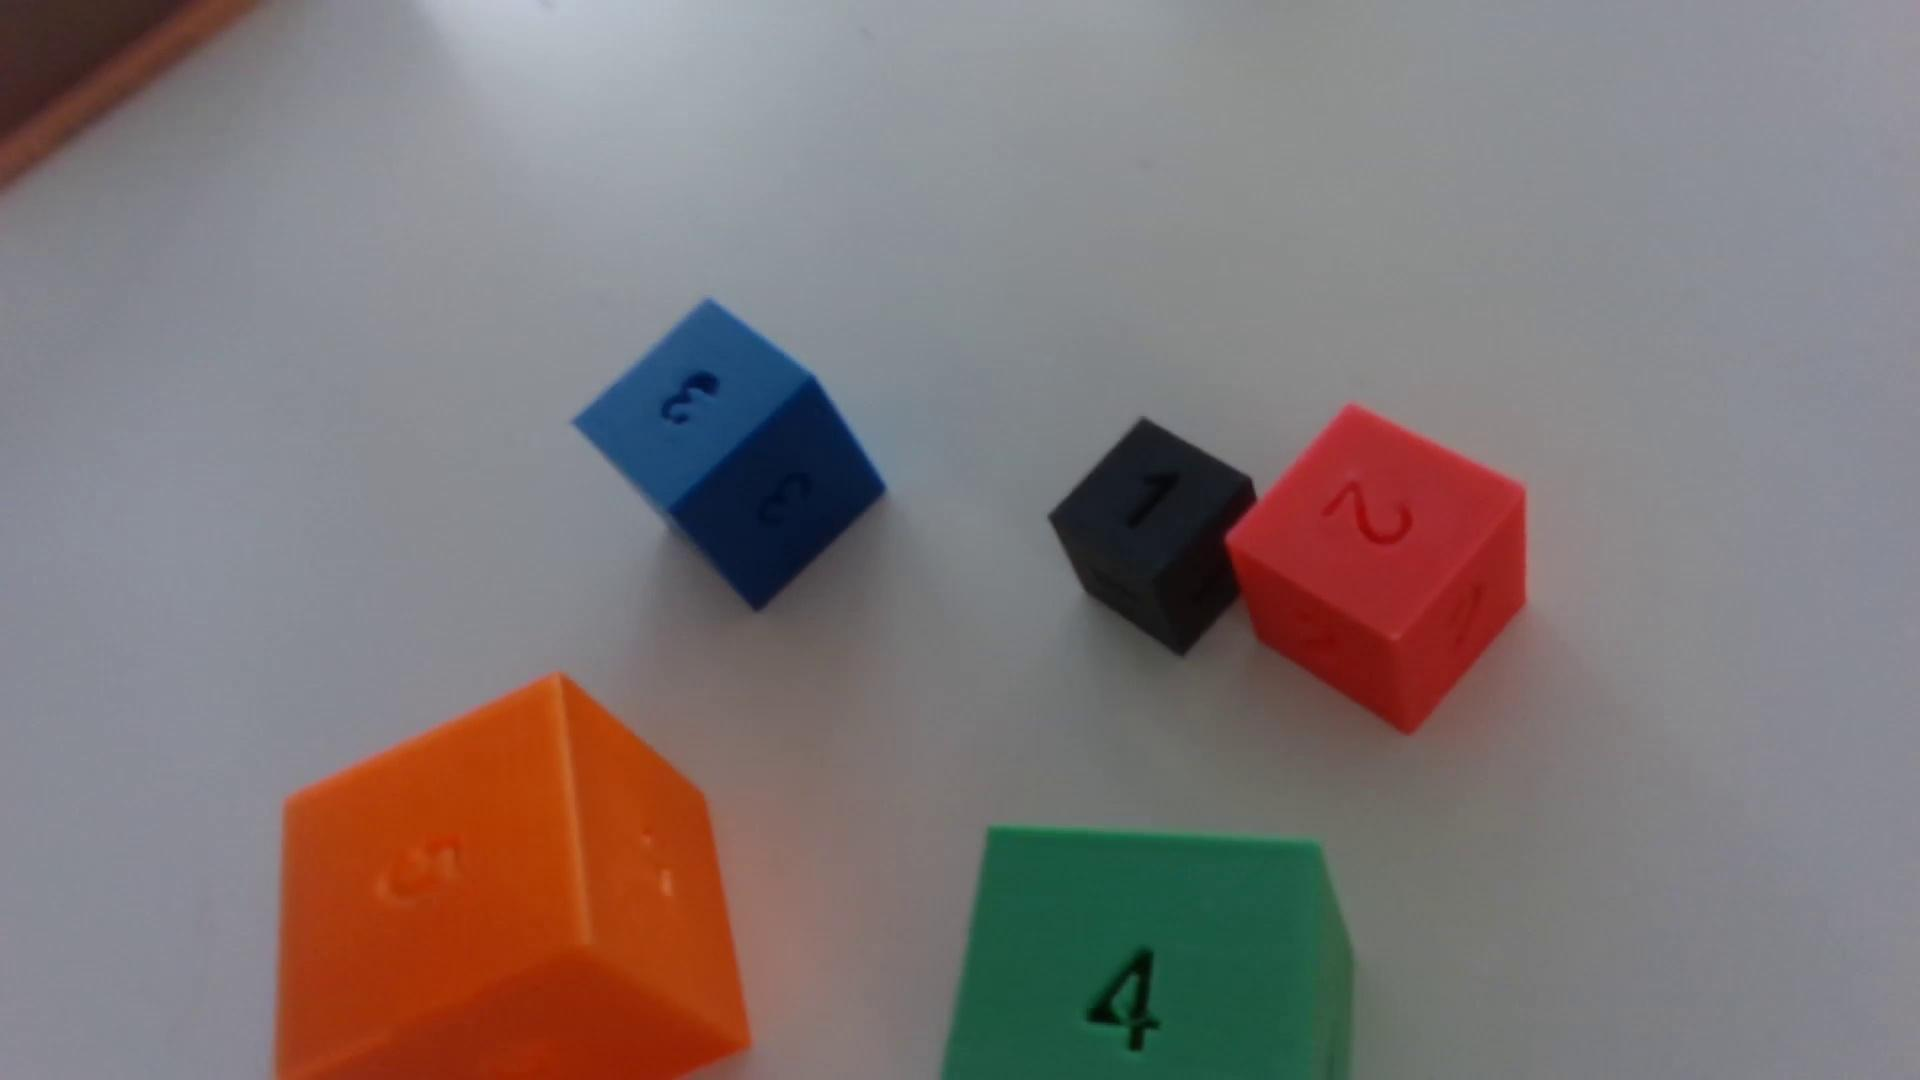black: (1048, 419, 1255, 655)
blue: (575, 302, 884, 611)
green: (942, 828, 1353, 1080)
orange: (274, 676, 750, 1080)
red: (1228, 406, 1527, 735)
